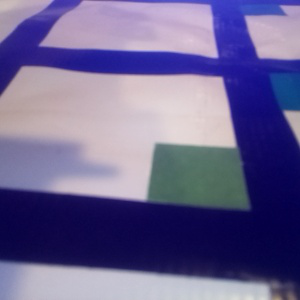bottom_right: (230, 60, 300, 111), (212, 1, 286, 15)
top_left: (147, 143, 300, 272)
